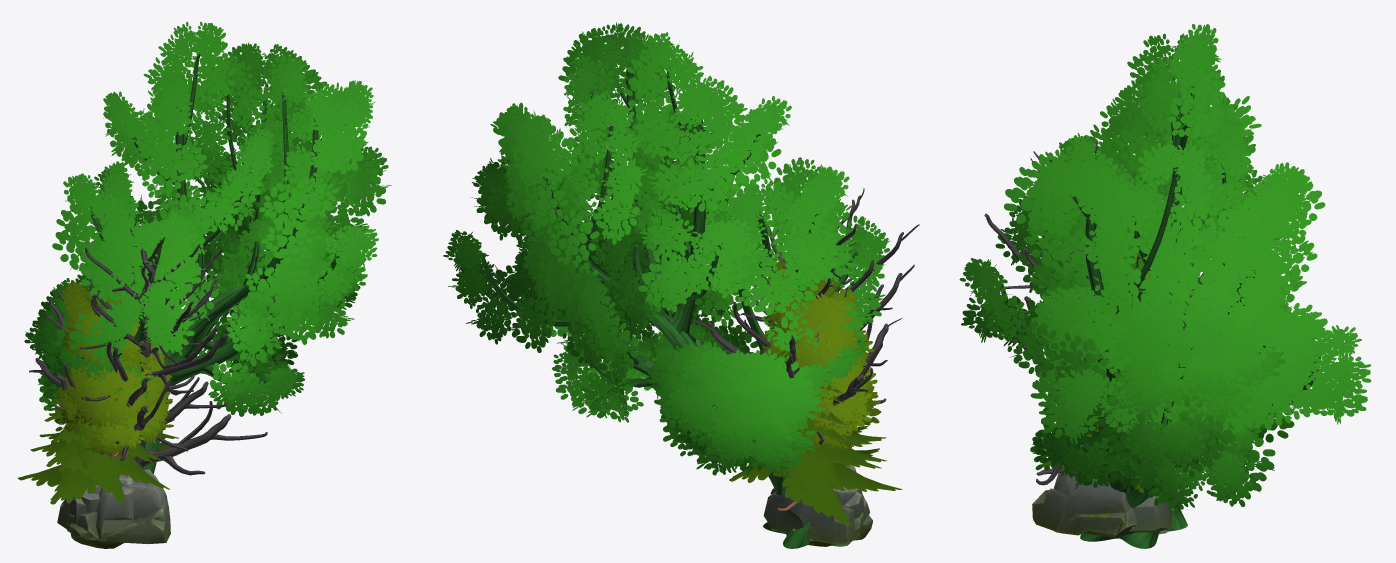
The model's file is nature.glb.
The picture shows the model from 3 angles, left to right: view 1: azimuth 30°, elevation 25°; view 2: azimuth 150°, elevation 25°; view 3: azimuth 270°, elevation 25°; orthographic projection. The views are drawn at different scales.
Visible parts, largest first — view 1: TwistedTree_1, DeadTree_2, CommonTree_3, Pine_2, Rock_Medium_3, CommonTree_1, DeadTree_1, CommonTree_2, Rock_Medium_1, Pine_1, Rock_Medium_2; view 2: TwistedTree_1, CommonTree_3, Pine_2, Rock_Medium_2, DeadTree_2, CommonTree_1, Pine_1, CommonTree_2, DeadTree_1; view 3: TwistedTree_1, Rock_Medium_3, Rock_Medium_2, DeadTree_2.
Part boxes in pixels (x1=…): TwistedTree_1: x1=24, y1=21, x2=391, y2=532; DeadTree_2: x1=55, y1=221, x2=267, y2=475; CommonTree_3: x1=61, y1=282, x2=172, y2=431; Pine_2: x1=17, y1=357, x2=178, y2=504; Rock_Medium_3: x1=70, y1=469, x2=170, y2=548; CommonTree_1: x1=54, y1=348, x2=174, y2=455; DeadTree_1: x1=29, y1=266, x2=227, y2=451; CommonTree_2: x1=57, y1=341, x2=172, y2=458; Rock_Medium_1: x1=66, y1=474, x2=134, y2=541; Pine_1: x1=30, y1=359, x2=161, y2=472; Rock_Medium_2: x1=57, y1=489, x2=99, y2=531; TwistedTree_1: x1=443, y1=22, x2=890, y2=548; CommonTree_3: x1=764, y1=261, x2=874, y2=431; Pine_2: x1=729, y1=357, x2=902, y2=525; Rock_Medium_2: x1=763, y1=486, x2=860, y2=544; DeadTree_2: x1=693, y1=187, x2=919, y2=444; CommonTree_1: x1=761, y1=331, x2=881, y2=450; Pine_1: x1=774, y1=350, x2=886, y2=511; CommonTree_2: x1=762, y1=327, x2=879, y2=441; DeadTree_1: x1=697, y1=245, x2=883, y2=441; TwistedTree_1: x1=959, y1=24, x2=1371, y2=548; Rock_Medium_3: x1=1032, y1=464, x2=1130, y2=535; Rock_Medium_2: x1=1129, y1=495, x2=1172, y2=532; DeadTree_2: x1=984, y1=139, x2=1203, y2=485.
Bounding box in the file's own units: 14.23 × 16.86 × 11.55.
Materials: 12 (12 with a texture image).
